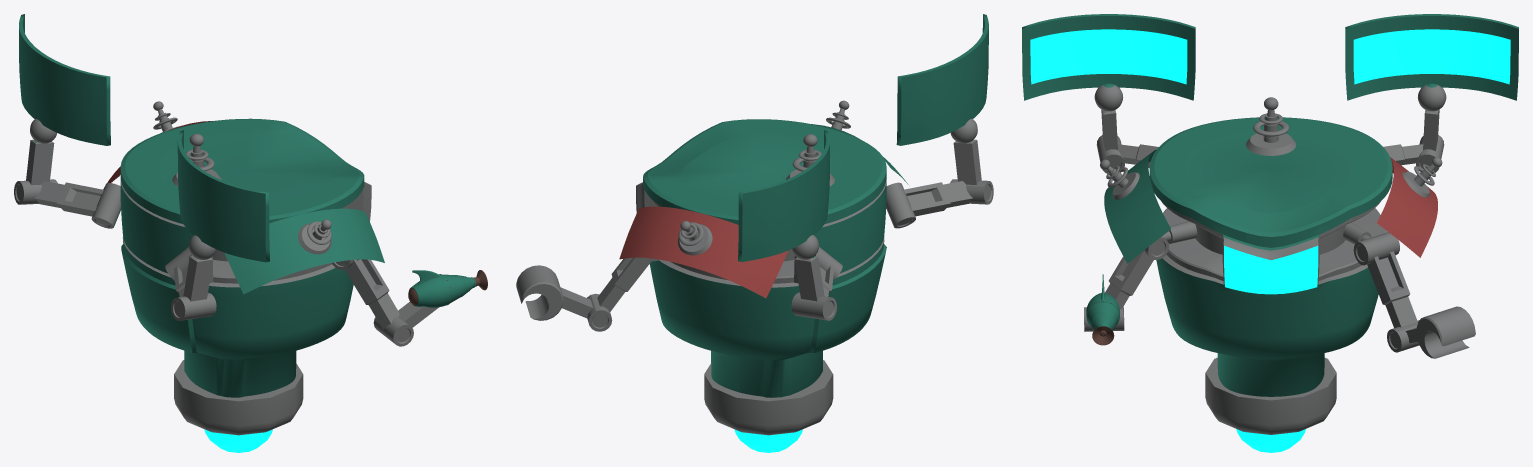
The model's file is Robot_Lv3.fbx.
3 renders of one model, left to right at view 1: azimuth 30°, elevation 25°; view 2: azimuth 150°, elevation 25°; view 3: azimuth 270°, elevation 25°, orthographic.
Parts seen in each view (by area): view 1: Corpo.001, BraccioSinistro.001; view 2: Corpo.001, BraccioDestro.001; view 3: Corpo.001, BraccioDestro.001, BraccioSinistro.001.
Part boxes in pixels (left/top/right/bottom): Corpo.001: left=14, top=14, right=384, bottom=452; BraccioSinistro.001: left=332, top=259, right=487, bottom=346; Corpo.001: left=619, top=14, right=993, bottom=452; BraccioDestro.001: left=516, top=257, right=658, bottom=331; Corpo.001: left=1022, top=14, right=1518, bottom=452; BraccioDestro.001: left=1343, top=222, right=1475, bottom=358; BraccioSinistro.001: left=1084, top=221, right=1197, bottom=345.
Bounding box in the file's own units: 186 × 210 × 254.
